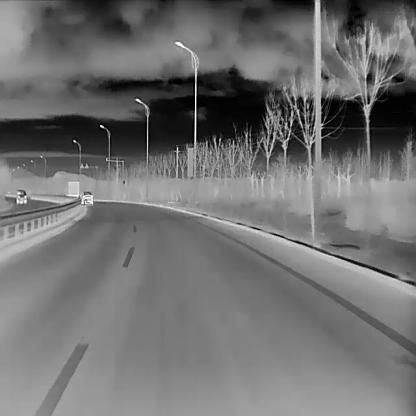car: (81, 190, 93, 205), (16, 189, 26, 203)
truck: (63, 180, 79, 198)
